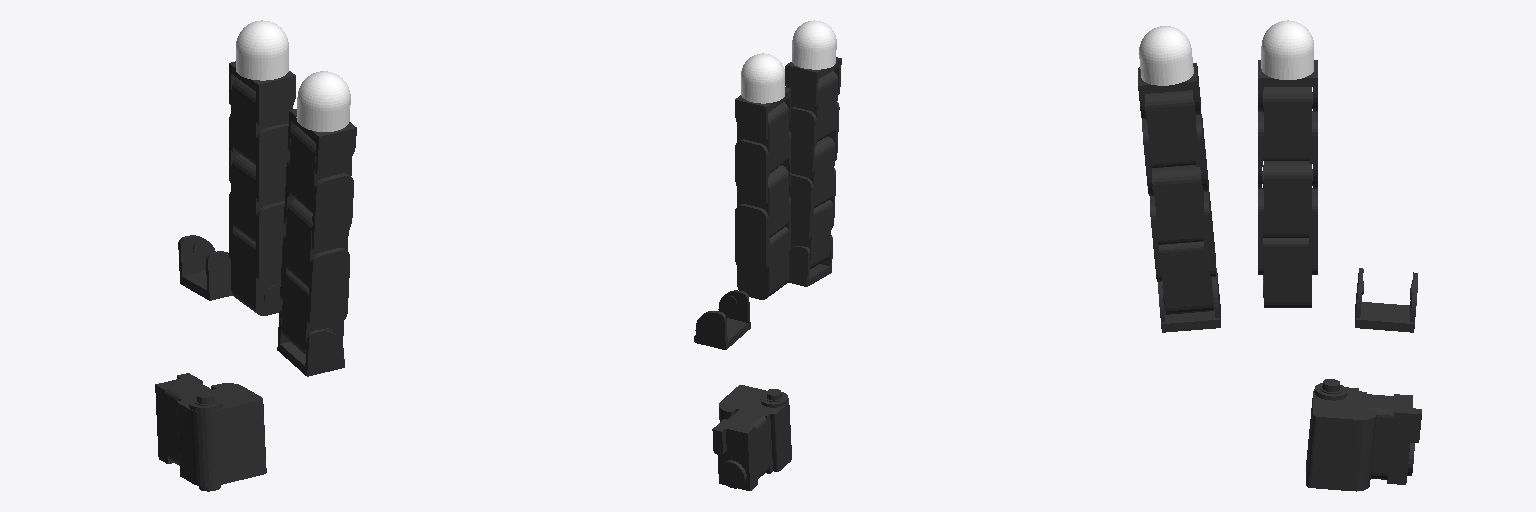
--- Facts derived from the render (not from the file) ---
Views: 3 orthographic renders of the robot side by side, from view 1: azimuth 30°, elevation 25°; view 2: azimuth 150°, elevation 25°; view 3: azimuth 270°, elevation 25°.
Model right_hand_simple_assembly_3 with 21 links and 20 joints (16 continuous, 4 fixed), rooted at base_link, posed every joint at zero.
Links seen in each view (by area): view 1: link_12.0, link_9.0, link_5.0, link_10.0, link_6.0, link_11.0_tip, link_7.0_tip, link_0.0, link_8.0, link_7.0, link_11.0; view 2: link_12.0, link_5.0, link_9.0, link_6.0, link_10.0, link_0.0, link_7.0_tip, link_11.0_tip, link_11.0, link_7.0, link_8.0; view 3: link_12.0, link_9.0, link_5.0, link_10.0, link_6.0, link_11.0_tip, link_7.0_tip, link_0.0, link_8.0, link_11.0, link_7.0.
Link boxes in pixels (left/top/right/bottom): link_12.0: left=155, top=373, right=266, bottom=491; link_9.0: left=280, top=199, right=349, bottom=354; link_5.0: left=229, top=154, right=285, bottom=315; link_10.0: left=284, top=126, right=353, bottom=252; link_6.0: left=229, top=78, right=292, bottom=204; link_11.0_tip: left=296, top=71, right=350, bottom=131; link_7.0_tip: left=236, top=20, right=288, bottom=80; link_0.0: left=178, top=235, right=232, bottom=300; link_8.0: left=277, top=309, right=344, bottom=376; link_7.0: left=229, top=61, right=295, bottom=127; link_11.0: left=287, top=109, right=356, bottom=177; link_12.0: left=712, top=385, right=791, bottom=490; link_5.0: left=735, top=165, right=790, bottom=299; link_9.0: left=789, top=136, right=835, bottom=268; link_6.0: left=735, top=102, right=790, bottom=206; link_10.0: left=789, top=71, right=839, bottom=175; link_0.0: left=694, top=290, right=750, bottom=349; link_7.0_tip: left=741, top=53, right=784, bottom=103; link_11.0_tip: left=792, top=20, right=836, bottom=69; link_11.0: left=785, top=57, right=841, bottom=109; link_7.0: left=735, top=87, right=790, bottom=142; link_8.0: left=788, top=235, right=832, bottom=286; link_12.0: left=1306, top=379, right=1421, bottom=491; link_9.0: left=1150, top=165, right=1215, bottom=314; link_5.0: left=1258, top=161, right=1317, bottom=307; link_10.0: left=1142, top=90, right=1208, bottom=195; link_6.0: left=1258, top=87, right=1317, bottom=188; link_11.0_tip: left=1139, top=26, right=1193, bottom=85; link_7.0_tip: left=1261, top=20, right=1313, bottom=79; link_0.0: left=1355, top=268, right=1417, bottom=332; link_8.0: left=1158, top=268, right=1220, bottom=332; link_11.0: left=1138, top=63, right=1200, bottom=119; link_7.0: left=1258, top=60, right=1317, bottom=111.
Bounding box of the posed robot: 0.0382 × 0.1286 × 0.2331 m (x, y, z).
Meshes: 21 distinct files referenced, 11 mesh visuals loaded (11 binary STL); not drawn: 10 (reference not matched to a file when rendering).

URDF robot description (right_hand_simple_assembly_3):
<robot
  name="right_hand_simple_assembly_3">
  <link
    name="base_link">
    <inertial>
      <origin
        xyz="-0.00935507915137471 -0.000851033693762793 -0.0381970033608026"
        rpy="0 0 0" />
      <mass
        value="0.147025651737926" />
      <inertia
        ixx="0.000265483130402103"
        ixy="1.05173746206256E-07"
        ixz="-8.69649644701935E-07"
        iyy="0.000160367808425742"
        iyz="1.33371261495167E-05"
        izz="0.000157859727216043" />
    </inertial>
    <visual>
      <origin
        xyz="0 0 0"
        rpy="0 0 0" />
      <geometry>
        <mesh
          filename="package://right_hand_simple_assembly_3/meshes/base_link.STL" />
      </geometry>
      <material
        name="">
        <color
          rgba="0.250980392156863 0.250980392156863 0.250980392156863 1" />
      </material>
    </visual>
    <collision>
      <origin
        xyz="0 0 0"
        rpy="0 0 0" />
      <geometry>
        <mesh
          filename="package://right_hand_simple_assembly_3/meshes/base_link.STL" />
      </geometry>
    </collision>
  </link>
  <link
    name="link_0.0">
    <inertial>
      <origin
        xyz="-0.000472822200805085 0.000240190742011794 0.00830085444285975"
        rpy="0 0 0" />
      <mass
        value="0.00342086189775067" />
      <inertia
        ixx="4.39832963724769E-07"
        ixy="-4.85699536660056E-10"
        ixz="-1.60533089553946E-08"
        iyy="2.16634887951992E-07"
        iyz="5.76392483419264E-09"
        izz="4.29252036095675E-07" />
    </inertial>
    <visual>
      <origin
        xyz="0 0 0"
        rpy="0 0 0" />
      <geometry>
        <mesh
          filename="package://right_hand_simple_assembly_3/meshes/link_0.0.STL" />
      </geometry>
      <material
        name="">
        <color
          rgba="0.250980392156863 0.250980392156863 0.250980392156863 1" />
      </material>
    </visual>
    <collision>
      <origin
        xyz="0 0 0"
        rpy="0 0 0" />
      <geometry>
        <mesh
          filename="package://right_hand_simple_assembly_3/meshes/link_0.0.STL" />
      </geometry>
    </collision>
  </link>
  <joint
    name="joint_0.0"
    type="continuous">
    <origin
      xyz="0 0.0435 -0.0039731"
      rpy="-0.087266 0 0" />
    <parent
      link="base_link" />
    <child
      link="link_0.0" />
    <axis
      xyz="0 0 -1" />
  </joint>
  <link
    name="link_1.0">
    <inertial>
      <origin
        xyz="-2.43285087528245E-15 -4.24944944871219E-05 0.0270000000000056"
        rpy="0 0 0" />
      <mass
        value="0.0338455579008062" />
      <inertia
        ixx="1.47876658614654E-05"
        ixy="-6.07087734882985E-20"
        ixz="-1.52855047245134E-18"
        iyy="1.40704813792468E-05"
        iyz="1.49162502011482E-18"
        izz="2.81076017543904E-06" />
    </inertial>
    <visual>
      <origin
        xyz="0 0 0"
        rpy="0 0 0" />
      <geometry>
        <mesh
          filename="package://right_hand_simple_assembly_3/meshes/link_1.0.STL" />
      </geometry>
      <material
        name="">
        <color
          rgba="0.250980392156863 0.250980392156863 0.250980392156863 1" />
      </material>
    </visual>
    <collision>
      <origin
        xyz="0 0 0"
        rpy="0 0 0" />
      <geometry>
        <mesh
          filename="package://right_hand_simple_assembly_3/meshes/link_1.0.STL" />
      </geometry>
    </collision>
  </link>
  <joint
    name="joint_1.0"
    type="continuous">
    <origin
      xyz="0 0 0.018036"
      rpy="-7.2164E-16 0 0" />
    <parent
      link="link_0.0" />
    <child
      link="link_1.0" />
    <axis
      xyz="0 -1 0" />
  </joint>
  <link
    name="link_2.0">
    <inertial>
      <origin
        xyz="-6.03936181568645E-05 -1.98923023673886E-05 0.0263501015993403"
        rpy="0 0 0" />
      <mass
        value="0.018292756815026" />
      <inertia
        ixx="3.63665777162873E-06"
        ixy="-5.66468035690015E-10"
        ixz="3.17193150366451E-08"
        iyy="3.10647741749536E-06"
        iyz="-1.06598808803083E-08"
        izz="1.65193286960323E-06" />
    </inertial>
    <visual>
      <origin
        xyz="0 0 0"
        rpy="0 0 0" />
      <geometry>
        <mesh
          filename="package://right_hand_simple_assembly_3/meshes/link_2.0.STL" />
      </geometry>
      <material
        name="">
        <color
          rgba="0.250980392156863 0.250980392156863 0.250980392156863 1" />
      </material>
    </visual>
    <collision>
      <origin
        xyz="0 0 0"
        rpy="0 0 0" />
      <geometry>
        <mesh
          filename="package://right_hand_simple_assembly_3/meshes/link_2.0.STL" />
      </geometry>
    </collision>
  </link>
  <joint
    name="joint_2.0"
    type="continuous">
    <origin
      xyz="0 0 0.0540000000000037"
      rpy="-9.15933995315754E-16 0 0" />
    <parent
      link="link_1.0" />
    <child
      link="link_2.0" />
    <axis
      xyz="0 -1 0" />
  </joint>
  <link
    name="link_3.0">
    <inertial>
      <origin
        xyz="-0.0003048806325699 0.000116448981777553 0.00965859728900044"
        rpy="0 0 0" />
      <mass
        value="0.0036236010162089" />
      <inertia
        ixx="4.69245590206391E-07"
        ixy="-4.68450745716013E-10"
        ixz="1.32791124251731E-08"
        iyy="2.34975473301593E-07"
        iyz="-3.32167828253573E-09"
        izz="4.538447344239E-07" />
    </inertial>
    <visual>
      <origin
        xyz="0 0 0"
        rpy="0 0 0" />
      <geometry>
        <mesh
          filename="package://right_hand_simple_assembly_3/meshes/link_3.0.STL" />
      </geometry>
      <material
        name="">
        <color
          rgba="0.250980392156863 0.250980392156863 0.250980392156863 1" />
      </material>
    </visual>
    <collision>
      <origin
        xyz="0 0 0"
        rpy="0 0 0" />
      <geometry>
        <mesh
          filename="package://right_hand_simple_assembly_3/meshes/link_3.0.STL" />
      </geometry>
    </collision>
  </link>
  <joint
    name="joint_3.0"
    type="continuous">
    <origin
      xyz="0 0 0.0384000000000009"
      rpy="1.37390099297363E-15 0 0" />
    <parent
      link="link_2.0" />
    <child
      link="link_3.0" />
    <axis
      xyz="0 -1 0" />
  </joint>
  <link
    name="link_3.0_tip">
    <inertial>
      <origin
        xyz="-1.67110920361406E-14 1.38777878078145E-17 -0.00128947368421053"
        rpy="0 0 0" />
      <mass
        value="0.00859539750022168" />
      <inertia
        ixx="5.74025328062243E-07"
        ixy="-5.37220232848455E-25"
        ixz="1.07929656190153E-22"
        iyy="5.74025328062242E-07"
        iyz="4.30133918527574E-23"
        izz="5.66753367804091E-07" />
    </inertial>
    <visual>
      <origin
        xyz="0 0 0"
        rpy="0 0 0" />
      <geometry>
        <mesh
          filename="package://right_hand_simple_assembly_3/meshes/link_3.0_tip.STL" />
      </geometry>
      <material
        name="">
        <color
          rgba="1 1 1 1" />
      </material>
    </visual>
    <collision>
      <origin
        xyz="0 0 0"
        rpy="0 0 0" />
      <geometry>
        <mesh
          filename="package://right_hand_simple_assembly_3/meshes/link_3.0_tip.STL" />
      </geometry>
    </collision>
  </link>
  <joint
    name="joint_3.0_tip"
    type="fixed">
    <origin
      xyz="0 0 0.0267000000000005"
      rpy="5.55111512312578E-17 0 0" />
    <parent
      link="link_3.0" />
    <child
      link="link_3.0_tip" />
    <axis
      xyz="0 0 0" />
  </joint>
  <link
    name="link_4.0">
    <inertial>
      <origin
        xyz="-0.000472822200806118 0.000240190742011972 0.00656528645324456"
        rpy="0 0 0" />
      <mass
        value="0.00342086189775067" />
      <inertia
        ixx="4.39832963724768E-07"
        ixy="-4.8569953666E-10"
        ixz="-1.60533089553947E-08"
        iyy="2.16634887951992E-07"
        iyz="5.76392483419269E-09"
        izz="4.29252036095675E-07" />
    </inertial>
    <visual>
      <origin
        xyz="0 0 0"
        rpy="0 0 0" />
      <geometry>
        <mesh
          filename="package://right_hand_simple_assembly_3/meshes/link_4.0.STL" />
      </geometry>
      <material
        name="">
        <color
          rgba="0.250980392156863 0.250980392156863 0.250980392156863 1" />
      </material>
    </visual>
    <collision>
      <origin
        xyz="0 0 0"
        rpy="0 0 0" />
      <geometry>
        <mesh
          filename="package://right_hand_simple_assembly_3/meshes/link_4.0.STL" />
      </geometry>
    </collision>
  </link>
  <joint
    name="joint_4.0"
    type="continuous">
    <origin
      xyz="0 0 0"
      rpy="0 0 0" />
    <parent
      link="base_link" />
    <child
      link="link_4.0" />
    <axis
      xyz="0 0 -1" />
  </joint>
  <link
    name="link_5.0">
    <inertial>
      <origin
        xyz="-2.5253688261291E-15 -4.24944944869389E-05 0.0270000000000056"
        rpy="0 0 0" />
      <mass
        value="0.0338455579008062" />
      <inertia
        ixx="1.47876658614654E-05"
        ixy="-4.78269168106644E-20"
        ixz="-1.64440274601287E-18"
        iyy="1.40704813792468E-05"
        iyz="1.49129116030638E-18"
        izz="2.81076017543904E-06" />
    </inertial>
    <visual>
      <origin
        xyz="0 0 0"
        rpy="0 0 0" />
      <geometry>
        <mesh
          filename="package://right_hand_simple_assembly_3/meshes/link_5.0.STL" />
      </geometry>
      <material
        name="">
        <color
          rgba="0.250980392156863 0.250980392156863 0.250980392156863 1" />
      </material>
    </visual>
    <collision>
      <origin
        xyz="0 0 0"
        rpy="0 0 0" />
      <geometry>
        <mesh
          filename="package://right_hand_simple_assembly_3/meshes/link_5.0.STL" />
      </geometry>
    </collision>
  </link>
  <joint
    name="joint_5.0"
    type="continuous">
    <origin
      xyz="0 0 0.0163000000000023"
      rpy="0 0 0" />
    <parent
      link="link_4.0" />
    <child
      link="link_5.0" />
    <axis
      xyz="0 -1 0" />
  </joint>
  <link
    name="link_6.0">
    <inertial>
      <origin
        xyz="-6.0393618158393E-05 1.18028414946708E-05 0.0245039981108025"
        rpy="0 0 0" />
      <mass
        value="0.0182927568150259" />
      <inertia
        ixx="3.63665777162873E-06"
        ixy="-5.66468035680039E-10"
        ixz="3.17193150366248E-08"
        iyy="3.10647741749536E-06"
        iyz="-1.06598808803096E-08"
        izz="1.65193286960323E-06" />
    </inertial>
    <visual>
      <origin
        xyz="0 0 0"
        rpy="0 0 0" />
      <geometry>
        <mesh
          filename="package://right_hand_simple_assembly_3/meshes/link_6.0.STL" />
      </geometry>
      <material
        name="">
        <color
          rgba="0.250980392156863 0.250980392156863 0.250980392156863 1" />
      </material>
    </visual>
    <collision>
      <origin
        xyz="0 0 0"
        rpy="0 0 0" />
      <geometry>
        <mesh
          filename="package://right_hand_simple_assembly_3/meshes/link_6.0.STL" />
      </geometry>
    </collision>
  </link>
  <joint
    name="joint_6.0"
    type="continuous">
    <origin
      xyz="0 -3.16951438619067E-05 0.0558461034885415"
      rpy="0 0 0" />
    <parent
      link="link_5.0" />
    <child
      link="link_6.0" />
    <axis
      xyz="0 -1 0" />
  </joint>
  <link
    name="link_7.0">
    <inertial>
      <origin
        xyz="-0.00030488063257076 0.00014814412563973 0.00965859728900043"
        rpy="0 0 0" />
      <mass
        value="0.0036236010162089" />
      <inertia
        ixx="4.69245590206391E-07"
        ixy="-4.68450745711733E-10"
        ixz="1.32791124251728E-08"
        iyy="2.34975473301593E-07"
        iyz="-3.32167828253614E-09"
        izz="4.538447344239E-07" />
    </inertial>
    <visual>
      <origin
        xyz="0 0 0"
        rpy="0 0 0" />
      <geometry>
        <mesh
          filename="package://right_hand_simple_assembly_3/meshes/link_7.0.STL" />
      </geometry>
      <material
        name="">
        <color
          rgba="0.250980392156863 0.250980392156863 0.250980392156863 1" />
      </material>
    </visual>
    <collision>
      <origin
        xyz="0 0 0"
        rpy="0 0 0" />
      <geometry>
        <mesh
          filename="package://right_hand_simple_assembly_3/meshes/link_7.0.STL" />
      </geometry>
    </collision>
  </link>
  <joint
    name="joint_7.0"
    type="continuous">
    <origin
      xyz="0 0 0.0365538965114632"
      rpy="0 0 0" />
    <parent
      link="link_6.0" />
    <child
      link="link_7.0" />
    <axis
      xyz="0 -1 0" />
  </joint>
  <link
    name="link_7.0_tip">
    <inertial>
      <origin
        xyz="-5.09469663300995E-14 7.77426802424788E-16 -0.00128947368421053"
        rpy="0 0 0" />
      <mass
        value="0.00859539750022168" />
      <inertia
        ixx="5.74025328062242E-07"
        ixy="-1.09310172655566E-36"
        ixz="-1.82037253831862E-21"
        iyy="5.74025328062242E-07"
        iyz="7.36133959941899E-25"
        izz="5.66753367804091E-07" />
    </inertial>
    <visual>
      <origin
        xyz="0 0 0"
        rpy="0 0 0" />
      <geometry>
        <mesh
          filename="package://right_hand_simple_assembly_3/meshes/link_7.0_tip.STL" />
      </geometry>
      <material
        name="">
        <color
          rgba="1 1 1 1" />
      </material>
    </visual>
    <collision>
      <origin
        xyz="0 0 0"
        rpy="0 0 0" />
      <geometry>
        <mesh
          filename="package://right_hand_simple_assembly_3/meshes/link_7.0_tip.STL" />
      </geometry>
    </collision>
  </link>
  <joint
    name="joint_7.0_tip"
    type="fixed">
    <origin
      xyz="0 3.16951438618755E-05 0.0267000000000005"
      rpy="0 0 0" />
    <parent
      link="link_7.0" />
    <child
      link="link_7.0_tip" />
    <axis
      xyz="0 0 0" />
  </joint>
  <link
    name="link_8.0">
    <inertial>
      <origin
        xyz="-0.000472822200807024 0.000240190742011807 0.00579817173637734"
        rpy="0 0 0" />
      <mass
        value="0.00342086189775067" />
      <inertia
        ixx="4.39832963724769E-07"
        ixy="-4.85699536659809E-10"
        ixz="-1.60533089553946E-08"
        iyy="2.16634887951992E-07"
        iyz="5.76392483419265E-09"
        izz="4.29252036095675E-07" />
    </inertial>
    <visual>
      <origin
        xyz="0 0 0"
        rpy="0 0 0" />
      <geometry>
        <mesh
          filename="package://right_hand_simple_assembly_3/meshes/link_8.0.STL" />
      </geometry>
      <material
        name="">
        <color
          rgba="0.250980392156863 0.250980392156863 0.250980392156863 1" />
      </material>
    </visual>
    <collision>
      <origin
        xyz="0 0 0"
        rpy="0 0 0" />
      <geometry>
        <mesh
          filename="package://right_hand_simple_assembly_3/meshes/link_8.0.STL" />
      </geometry>
    </collision>
  </link>
  <joint
    name="joint_8.0"
    type="continuous">
    <origin
      xyz="0 -0.043718 -0.00148"
      rpy="0.087266 0 0" />
    <parent
      link="base_link" />
    <child
      link="link_8.0" />
    <axis
      xyz="0 0 -1" />
  </joint>
  <link
    name="link_9.0">
    <inertial>
      <origin
        xyz="-1.92736526243845E-15 -4.24944944871219E-05 0.0270000000000056"
        rpy="0 0 0" />
      <mass
        value="0.0338455579008062" />
      <inertia
        ixx="1.47876658614654E-05"
        ixy="-4.56945441095281E-20"
        ixz="-8.53206487449033E-19"
        iyy="1.40704813792469E-05"
        iyz="1.49101621518398E-18"
        izz="2.81076017543904E-06" />
    </inertial>
    <visual>
      <origin
        xyz="0 0 0"
        rpy="0 0 0" />
      <geometry>
        <mesh
          filename="package://right_hand_simple_assembly_3/meshes/link_9.0.STL" />
      </geometry>
      <material
        name="">
        <color
          rgba="0.250980392156863 0.250980392156863 0.250980392156863 1" />
      </material>
    </visual>
    <collision>
      <origin
        xyz="0 0 0"
        rpy="0 0 0" />
      <geometry>
        <mesh
          filename="package://right_hand_simple_assembly_3/meshes/link_9.0.STL" />
      </geometry>
    </collision>
  </link>
  <joint
    name="joint_9.0"
    type="continuous">
    <origin
      xyz="0 0 0.0155328852831351"
      rpy="-8.74300631892311E-16 0 0" />
    <parent
      link="link_8.0" />
    <child
      link="link_9.0" />
    <axis
      xyz="0 -1 0" />
  </joint>
  <link
    name="link_10.0">
    <inertial>
      <origin
        xyz="-6.03936181555226E-05 -1.7684342775541E-05 0.0238286305555684"
        rpy="0 0 0" />
      <mass
        value="0.0182927568150259" />
      <inertia
        ixx="3.63665777162873E-06"
        ixy="-5.66468035677726E-10"
        ixz="3.17193150364396E-08"
        iyy="3.10647741749535E-06"
        iyz="-1.06598808803118E-08"
        izz="1.65193286960323E-06" />
    </inertial>
    <visual>
      <origin
        xyz="0 0 0"
        rpy="0 0 0" />
      <geometry>
        <mesh
          filename="package://right_hand_simple_assembly_3/meshes/link_10.0.STL" />
      </geometry>
      <material
        name="">
        <color
          rgba="0.250980392156863 0.250980392156863 0.250980392156863 1" />
      </material>
    </visual>
    <collision>
      <origin
        xyz="0 0 0"
        rpy="0 0 0" />
      <geometry>
        <mesh
          filename="package://right_hand_simple_assembly_3/meshes/link_10.0.STL" />
      </geometry>
    </collision>
  </link>
  <joint
    name="joint_10.0"
    type="continuous">
    <origin
      xyz="0 0 0.0565214710437756"
      rpy="-5.82867087928207E-16 0 0" />
    <parent
      link="link_9.0" />
    <child
      link="link_10.0" />
    <axis
      xyz="0 -1 0" />
  </joint>
  <link
    name="link_11.0">
    <inertial>
      <origin
        xyz="-0.000304880632571894 0.000118656941369415 0.00965859728900044"
        rpy="0 0 0" />
      <mass
        value="0.0036236010162089" />
      <inertia
        ixx="4.69245590206391E-07"
        ixy="-4.68450745711183E-10"
        ixz="1.32791124251729E-08"
        iyy="2.34975473301593E-07"
        iyz="-3.32167828253636E-09"
        izz="4.538447344239E-07" />
    </inertial>
    <visual>
      <origin
        xyz="0 0 0"
        rpy="0 0 0" />
      <geometry>
        <mesh
          filename="package://right_hand_simple_assembly_3/meshes/link_11.0.STL" />
      </geometry>
      <material
        name="">
        <color
          rgba="0.250980392156863 0.250980392156863 0.250980392156863 1" />
      </material>
    </visual>
    <collision>
      <origin
        xyz="0 0 0"
        rpy="0 0 0" />
      <geometry>
        <mesh
          filename="package://right_hand_simple_assembly_3/meshes/link_11.0.STL" />
      </geometry>
    </collision>
  </link>
  <joint
    name="joint_11.0"
    type="continuous">
    <origin
      xyz="0 0 0.035878528956229"
      rpy="1.4432899320127E-15 0 0" />
    <parent
      link="link_10.0" />
    <child
      link="link_11.0" />
    <axis
      xyz="0 -1 0" />
  </joint>
  <link
    name="link_11.0_tip">
    <inertial>
      <origin
        xyz="-5.24773939458335E-14 6.93889390390723E-18 -0.00128947368421053"
        rpy="0 0 0" />
      <mass
        value="0.00859539750022167" />
      <inertia
        ixx="5.74025328062242E-07"
        ixy="-1.33170392412604E-24"
        ixz="-1.81208089960106E-21"
        iyy="5.74025328062242E-07"
        iyz="-4.96308367531817E-23"
        izz="5.66753367804091E-07" />
    </inertial>
    <visual>
      <origin
        xyz="0 0 0"
        rpy="0 0 0" />
      <geometry>
        <mesh
          filename="package://right_hand_simple_assembly_3/meshes/link_11.0_tip.STL" />
      </geometry>
      <material
        name="">
        <color
          rgba="1 1 1 1" />
      </material>
    </visual>
    <collision>
      <origin
        xyz="0 0 0"
        rpy="0 0 0" />
      <geometry>
        <mesh
          filename="package://right_hand_simple_assembly_3/meshes/link_11.0_tip.STL" />
      </geometry>
    </collision>
  </link>
  <joint
    name="joint_11.0_tip"
    type="fixed">
    <origin
      xyz="0 0 0.0267000000000005"
      rpy="-1.4432899320127E-15 0 0" />
    <parent
      link="link_11.0" />
    <child
      link="link_11.0_tip" />
    <axis
      xyz="0 0 0" />
  </joint>
  <link
    name="link_12.0">
    <inertial>
      <origin
        xyz="-0.0275626134082539 0.00813621735311537 0.01238825106136"
        rpy="0 0 0" />
      <mass
        value="0.0464068231323001" />
      <inertia
        ixx="1.12662075770792E-05"
        ixy="-2.19309423790832E-08"
        ixz="-6.84610689613688E-08"
        iyy="1.28857163711202E-05"
        iyz="-8.20441630650644E-07"
        izz="8.69679446014164E-06" />
    </inertial>
    <visual>
      <origin
        xyz="0 0 0"
        rpy="0 0 0" />
      <geometry>
        <mesh
          filename="package://right_hand_simple_assembly_3/meshes/link_12.0.STL" />
      </geometry>
      <material
        name="">
        <color
          rgba="0.250980392156863 0.250980392156863 0.250980392156863 1" />
      </material>
    </visual>
    <collision>
      <origin
        xyz="0 0 0"
        rpy="0 0 0" />
      <geometry>
        <mesh
          filename="package://right_hand_simple_assembly_3/meshes/link_12.0.STL" />
      </geometry>
    </collision>
  </link>
  <joint
    name="joint_12.0"
    type="continuous">
    <origin
      xyz="-0.0181999999999994 0.0201909722689788 -0.0364317974063761"
      rpy="-3.14159265358974 -1.48352986419517 1.57079632679486" />
    <parent
      link="base_link" />
    <child
      link="link_12.0" />
    <axis
      xyz="-1 0 0" />
  </joint>
  <link
    name="link_13.0">
    <inertial>
      <origin
        xyz="-0.000472822200806355 0.000240190742012102 0.00579817173637746"
        rpy="0 0 0" />
      <mass
        value="0.00342086189775065" />
      <inertia
        ixx="4.3983296372476E-07"
        ixy="-4.85699536661174E-10"
        ixz="-1.60533089553948E-08"
        iyy="2.16634887951994E-07"
        iyz="5.7639248341913E-09"
        izz="4.29252036095664E-07" />
    </inertial>
    <visual>
      <origin
        xyz="0 0 0"
        rpy="0 0 0" />
      <geometry>
        <mesh
          filename="package://right_hand_simple_assembly_3/meshes/link_13.0.STL" />
      </geometry>
      <material
        name="">
        <color
          rgba="0.250980392156863 0.250980392156863 0.250980392156863 1" />
      </material>
    </visual>
    <collision>
      <origin
        xyz="0 0 0"
        rpy="0 0 0" />
      <geometry>
        <mesh
          filename="package://right_hand_simple_assembly_3/meshes/link_13.0.STL" />
      </geometry>
    </collision>
  </link>
  <joint
    name="joint_13.0"
    type="continuous">
    <origin
      xyz="-0.0367977923972564 0.00500000000000078 0.0395671147168656"
      rpy="-2.58268900854649E-14 1.58845159248244E-13 1.13145792533605E-14" />
    <parent
      link="link_12.0" />
    <child
      link="link_13.0" />
    <axis
      xyz="0 0 -1" />
  </joint>
  <link
    name="link_14.0">
    <inertial>
      <origin
        xyz="-5.70557514922437E-05 0.000108446607080603 0.0141462503787928"
        rpy="0 0 0" />
      <mass
        value="0.0193629168150265" />
      <inertia
        ixx="5.27154026515863E-06"
        ixy="-5.3516017854425E-10"
        ixz="-4.37652921391183E-08"
        iyy="4.60945988452518E-06"
        iyz="2.82152412434628E-08"
        izz="1.852359048825E-06" />
    </inertial>
    <visual>
      <origin
        xyz="0 0 0"
        rpy="0 0 0" />
      <geometry>
        <mesh
          filename="package://right_hand_simple_assembly_3/meshes/link_14.0.STL" />
      </geometry>
      <material
        name="">
        <color
          rgba="0.250980392156863 0.250980392156863 0.250980392156863 1" />
      </material>
    </visual>
    <collision>
      <origin
        xyz="0 0 0"
        rpy="0 0 0" />
      <geometry>
        <mesh
          filename="package://right_hand_simple_assembly_3/meshes/link_14.0.STL" />
      </geometry>
    </collision>
  </link>
  <joint
    name="joint_14.0"
    type="continuous">
    <origin
      xyz="0 0 0.0155328852831353"
      rpy="7.79362796123148E-15 6.9111383282916E-15 1.74281842191663E-14" />
    <parent
      link="link_13.0" />
    <child
      link="link_14.0" />
    <axis
      xyz="0 -1 0" />
  </joint>
  <link
    name="link_15.0">
    <inertial>
      <origin
        xyz="3.37230243729891E-15 5.66016821135964E-05 0.012423015894627"
        rpy="0 0 0" />
      <mass
        value="0.0191920557650992" />
      <inertia
        ixx="3.46793576622385E-06"
        ixy="5.14533736231966E-21"
        ixz="2.15834582872236E-19"
        iyy="3.0439514147497E-06"
        iyz="1.98481162313275E-10"
        izz="1.61646557809192E-06" />
    </inertial>
    <visual>
      <origin
        xyz="0 0 0"
        rpy="0 0 0" />
      <geometry>
        <mesh
          filename="package://right_hand_simple_assembly_3/meshes/link_15.0.STL" />
      </geometry>
      <material
        name="">
        <color
          rgba="0.250980392156863 0.250980392156863 0.250980392156863 1" />
      </material>
    </visual>
    <collision>
      <origin
        xyz="0 0 0"
        rpy="0 0 0" />
      <geometry>
        <mesh
          filename="package://right_hand_simple_assembly_3/meshes/link_15.0.STL" />
      </geometry>
    </collision>
  </link>
  <joint
    name="joint_15.0"
    type="continuous">
    <origin
      xyz="0 0 0.0514000000000004"
      rpy="1.86630942517168E-15 -5.52335954751015E-15 5.40903856374664E-15" />
    <parent
      link="link_14.0" />
    <child
      link="link_15.0" />
    <axis
      xyz="0 -1 0" />
  </joint>
  <link
    name="link_15.0_tip">
    <inertial>
      <origin
        xyz="-3.30707683460219E-14 -1.04083408558608E-17 -0.00128947368421056"
        rpy="0 0 0" />
      <mass
        value="0.00859539750022167" />
      <inertia
        ixx="5.74025328062241E-07"
        ixy="1.56217559246066E-23"
        ixz="-1.74369673126178E-21"
        iyy="5.74025328062241E-07"
        iyz="6.61886492191686E-24"
        izz="5.6675336780409E-07" />
    </inertial>
    <visual>
      <origin
        xyz="0 0 0"
        rpy="0 0 0" />
      <geometry>
        <mesh
          filename="package://right_hand_simple_assembly_3/meshes/link_15.0_tip.STL" />
      </geometry>
      <material
        name="">
        <color
          rgba="1 1 1 1" />
      </material>
    </visual>
    <collision>
      <origin
        xyz="0 0 0"
        rpy="0 0 0" />
      <geometry>
        <mesh
          filename="package://right_hand_simple_assembly_3/meshes/link_15.0_tip.STL" />
      </geometry>
    </collision>
  </link>
  <joint
    name="joint_15.0_tip"
    type="fixed">
    <origin
      xyz="0 9.99999999976384E-05 0.0422999999999824"
      rpy="-3.12785439830218E-15 -4.13558076672871E-15 -3.90558780979965E-15" />
    <parent
      link="link_15.0" />
    <child
      link="link_15.0_tip" />
    <axis
      xyz="0 0 0" />
  </joint>
</robot>
